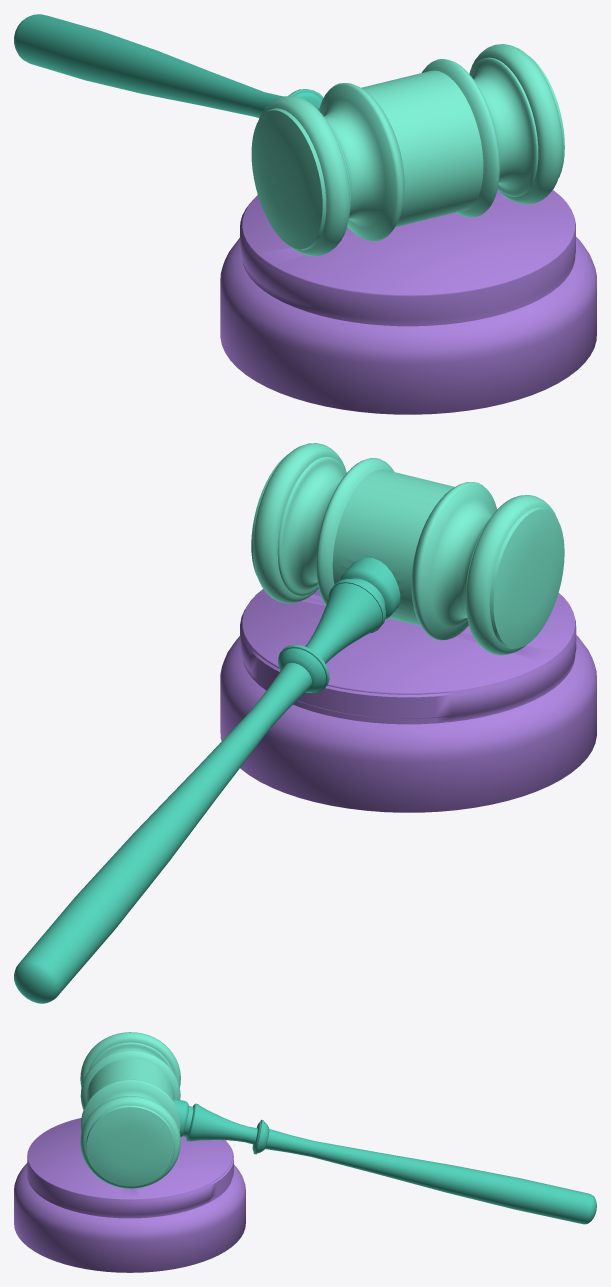
The picture shows the model from 3 angles, top to bottom: view 1: azimuth 30°, elevation 25°; view 2: azimuth 150°, elevation 25°; view 3: azimuth 270°, elevation 25°; orthographic projection. The views are drawn at different scales.
Parts seen in each view (by area): view 1: Wood_02 - Default_0, JudgeHammer_low_03 - Default_0, JudgeHammer_low_03 - Default_0.002; view 2: Wood_02 - Default_0, JudgeHammer_low_03 - Default_0, JudgeHammer_low_03 - Default_0.002; view 3: Wood_02 - Default_0, JudgeHammer_low_03 - Default_0, JudgeHammer_low_03 - Default_0.002.
Part boxes in pixels (box(x1,y1,x2,y2)): Wood_02 - Default_0: box(220, 190, 596, 414); JudgeHammer_low_03 - Default_0: box(251, 44, 564, 256); JudgeHammer_low_03 - Default_0.002: box(14, 14, 323, 117); Wood_02 - Default_0: box(220, 589, 596, 812); JudgeHammer_low_03 - Default_0: box(251, 443, 564, 655); JudgeHammer_low_03 - Default_0.002: box(14, 557, 400, 1003); Wood_02 - Default_0: box(14, 1118, 245, 1272); JudgeHammer_low_03 - Default_0: box(80, 1032, 180, 1188); JudgeHammer_low_03 - Default_0.002: box(173, 1099, 596, 1224).
Bounding box in the file's own units: 0.3977 × 0.3015 × 1.
